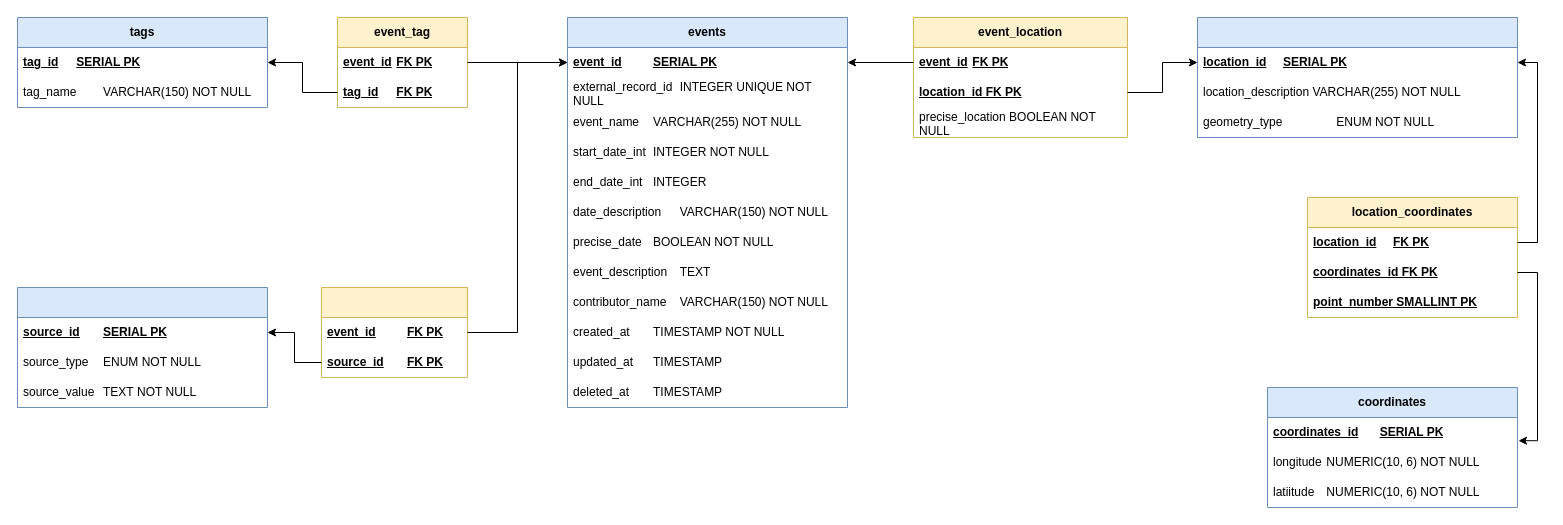
The diagram is 1563 pixels wide and 525 high, and some of its shapes have lost their labels. Here are the shapes that lost their labels. From the top down, the box of each, then its label:
(1196, 16, 1518, 138): locations
(16, 286, 268, 408): sources
(320, 286, 468, 378): event_source
